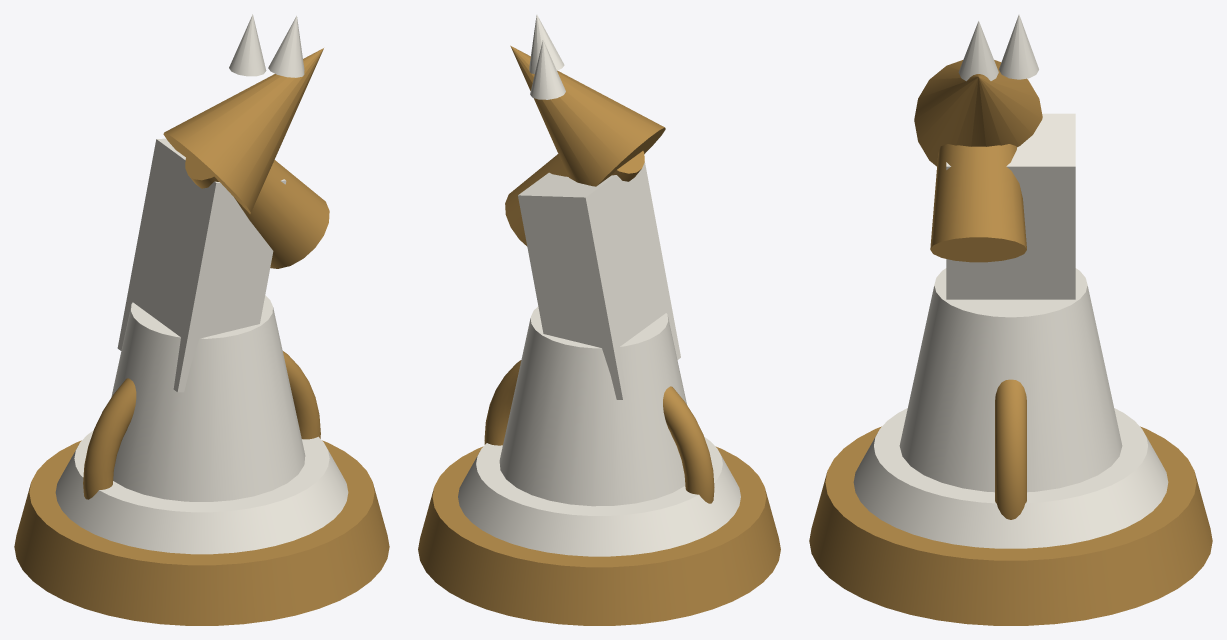
3 views of the same model, side by side, from view 1: azimuth 30°, elevation 25°; view 2: azimuth 150°, elevation 25°; view 3: azimuth 270°, elevation 25° (orthographic). The views are drawn at different scales.
Size of the model in its own units: 0.9972 by 1.64 by 1.
